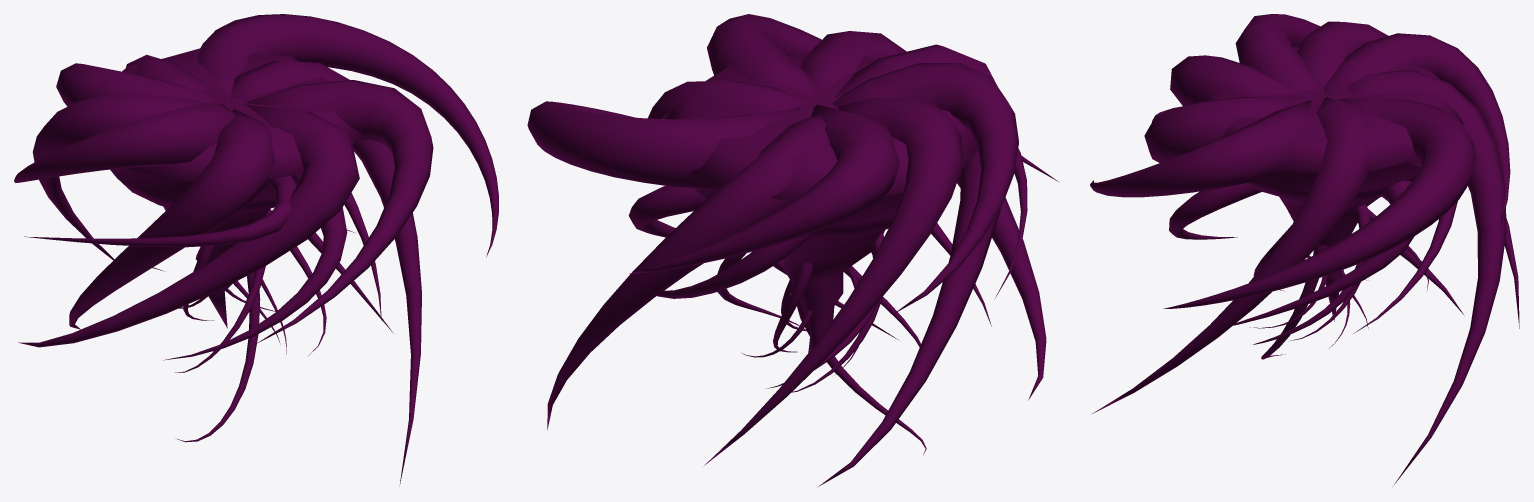
The model's file is void.fbx.
3 renders of one model, left to right at view 1: azimuth 30°, elevation 25°; view 2: azimuth 150°, elevation 25°; view 3: azimuth 270°, elevation 25°, orthographic. The views are drawn at different scales.
Visible parts, largest first — view 1: BezierCurve; view 2: BezierCurve; view 3: BezierCurve.
Boxes of the visible parts, x1,y1,x2,y2 form: BezierCurve: [14, 14, 498, 485]; BezierCurve: [527, 14, 1059, 486]; BezierCurve: [1090, 14, 1519, 485].
Size of the model in its own units: 3451 by 2604 by 3093.
